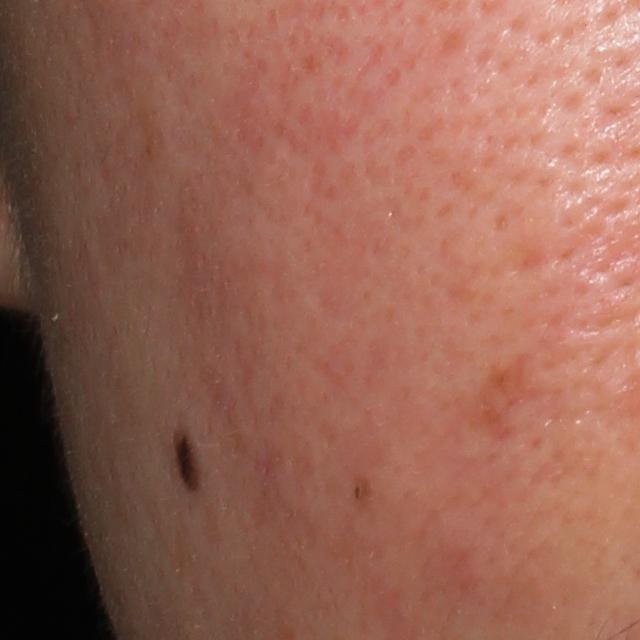atrophic_scar: (467, 346, 565, 446)
nevus: (169, 426, 208, 495)
